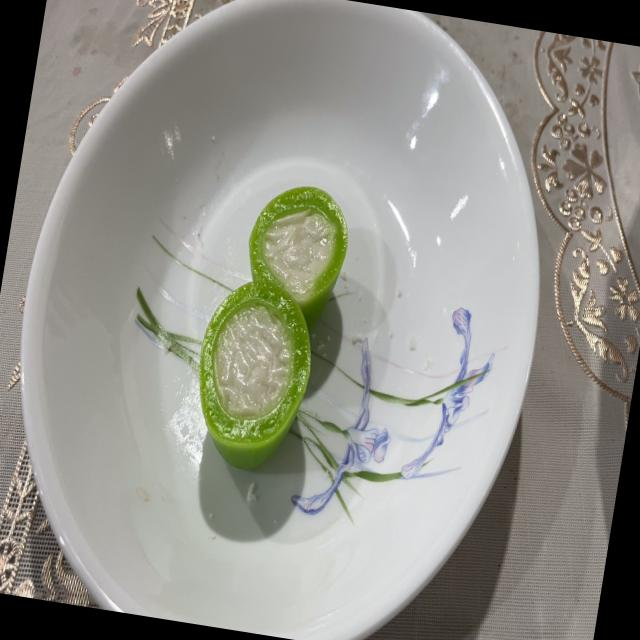nona-manis: (199, 281, 311, 469), (249, 187, 348, 328)
